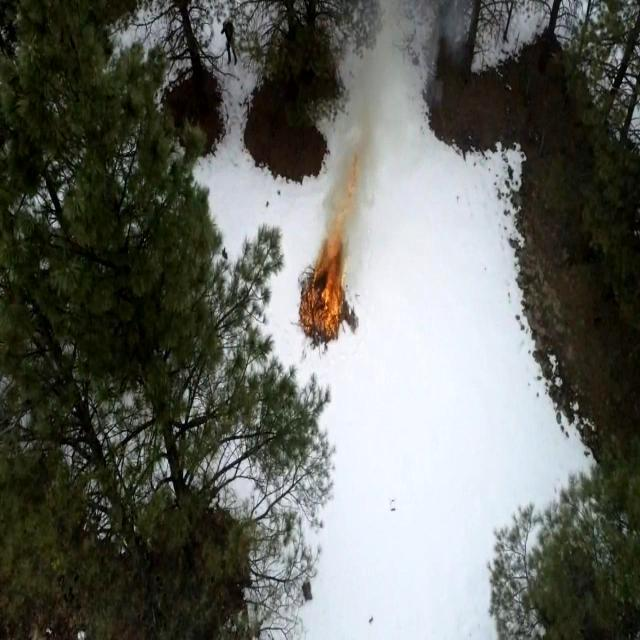Fire: (304, 241, 351, 331)
Smoke: (310, 0, 422, 254)
